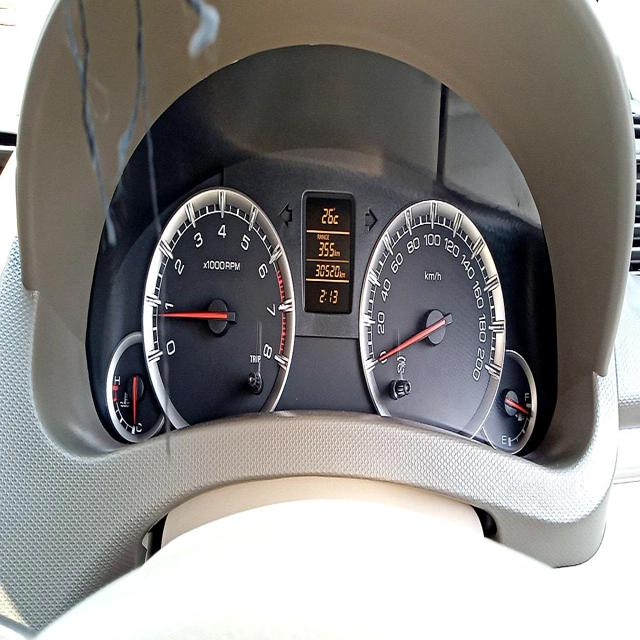odometer: (313, 261, 340, 280)
